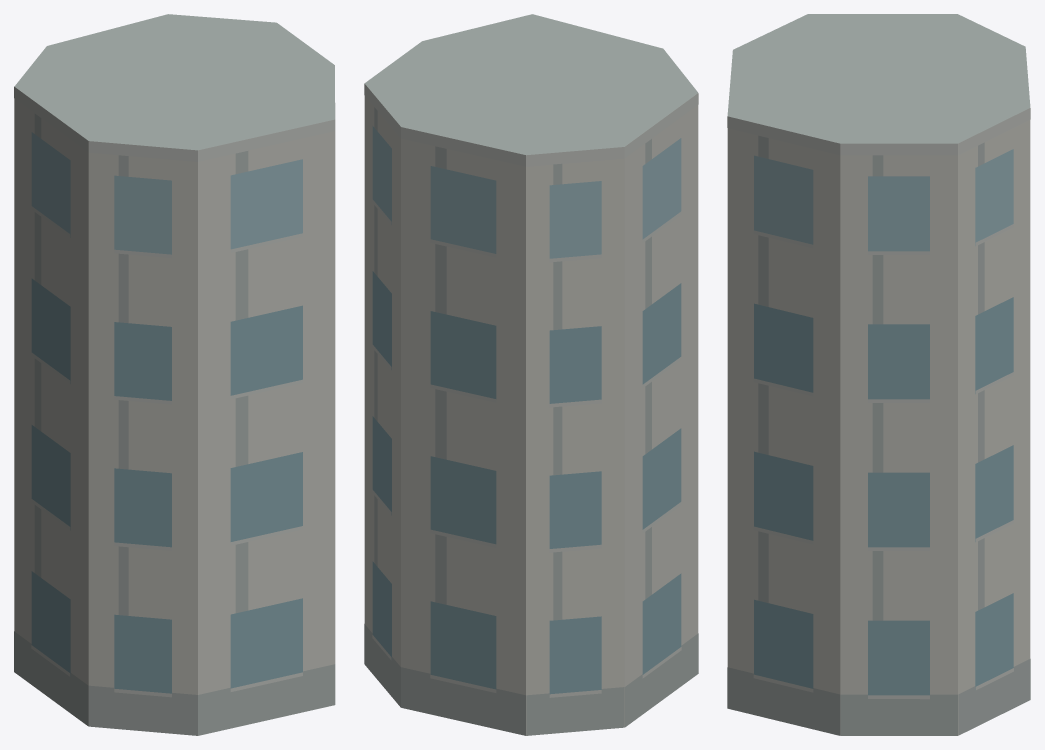
The model's file is survey-upis-33028334.glb.
3 renders of one model, left to right at view 1: azimuth 30°, elevation 25°; view 2: azimuth 150°, elevation 25°; view 3: azimuth 270°, elevation 25°, orthographic.
Parts seen in each view (by area): view 1: survey-upis-33028334.tmp; view 2: survey-upis-33028334.tmp; view 3: survey-upis-33028334.tmp.
Boxes of the visible parts, x1,y1,x2,y2 form: survey-upis-33028334.tmp: (14, 14, 335, 735); survey-upis-33028334.tmp: (364, 14, 698, 735); survey-upis-33028334.tmp: (727, 14, 1030, 735).
Bounding box in the file's own units: 5.75 × 12.2 × 5.67.
